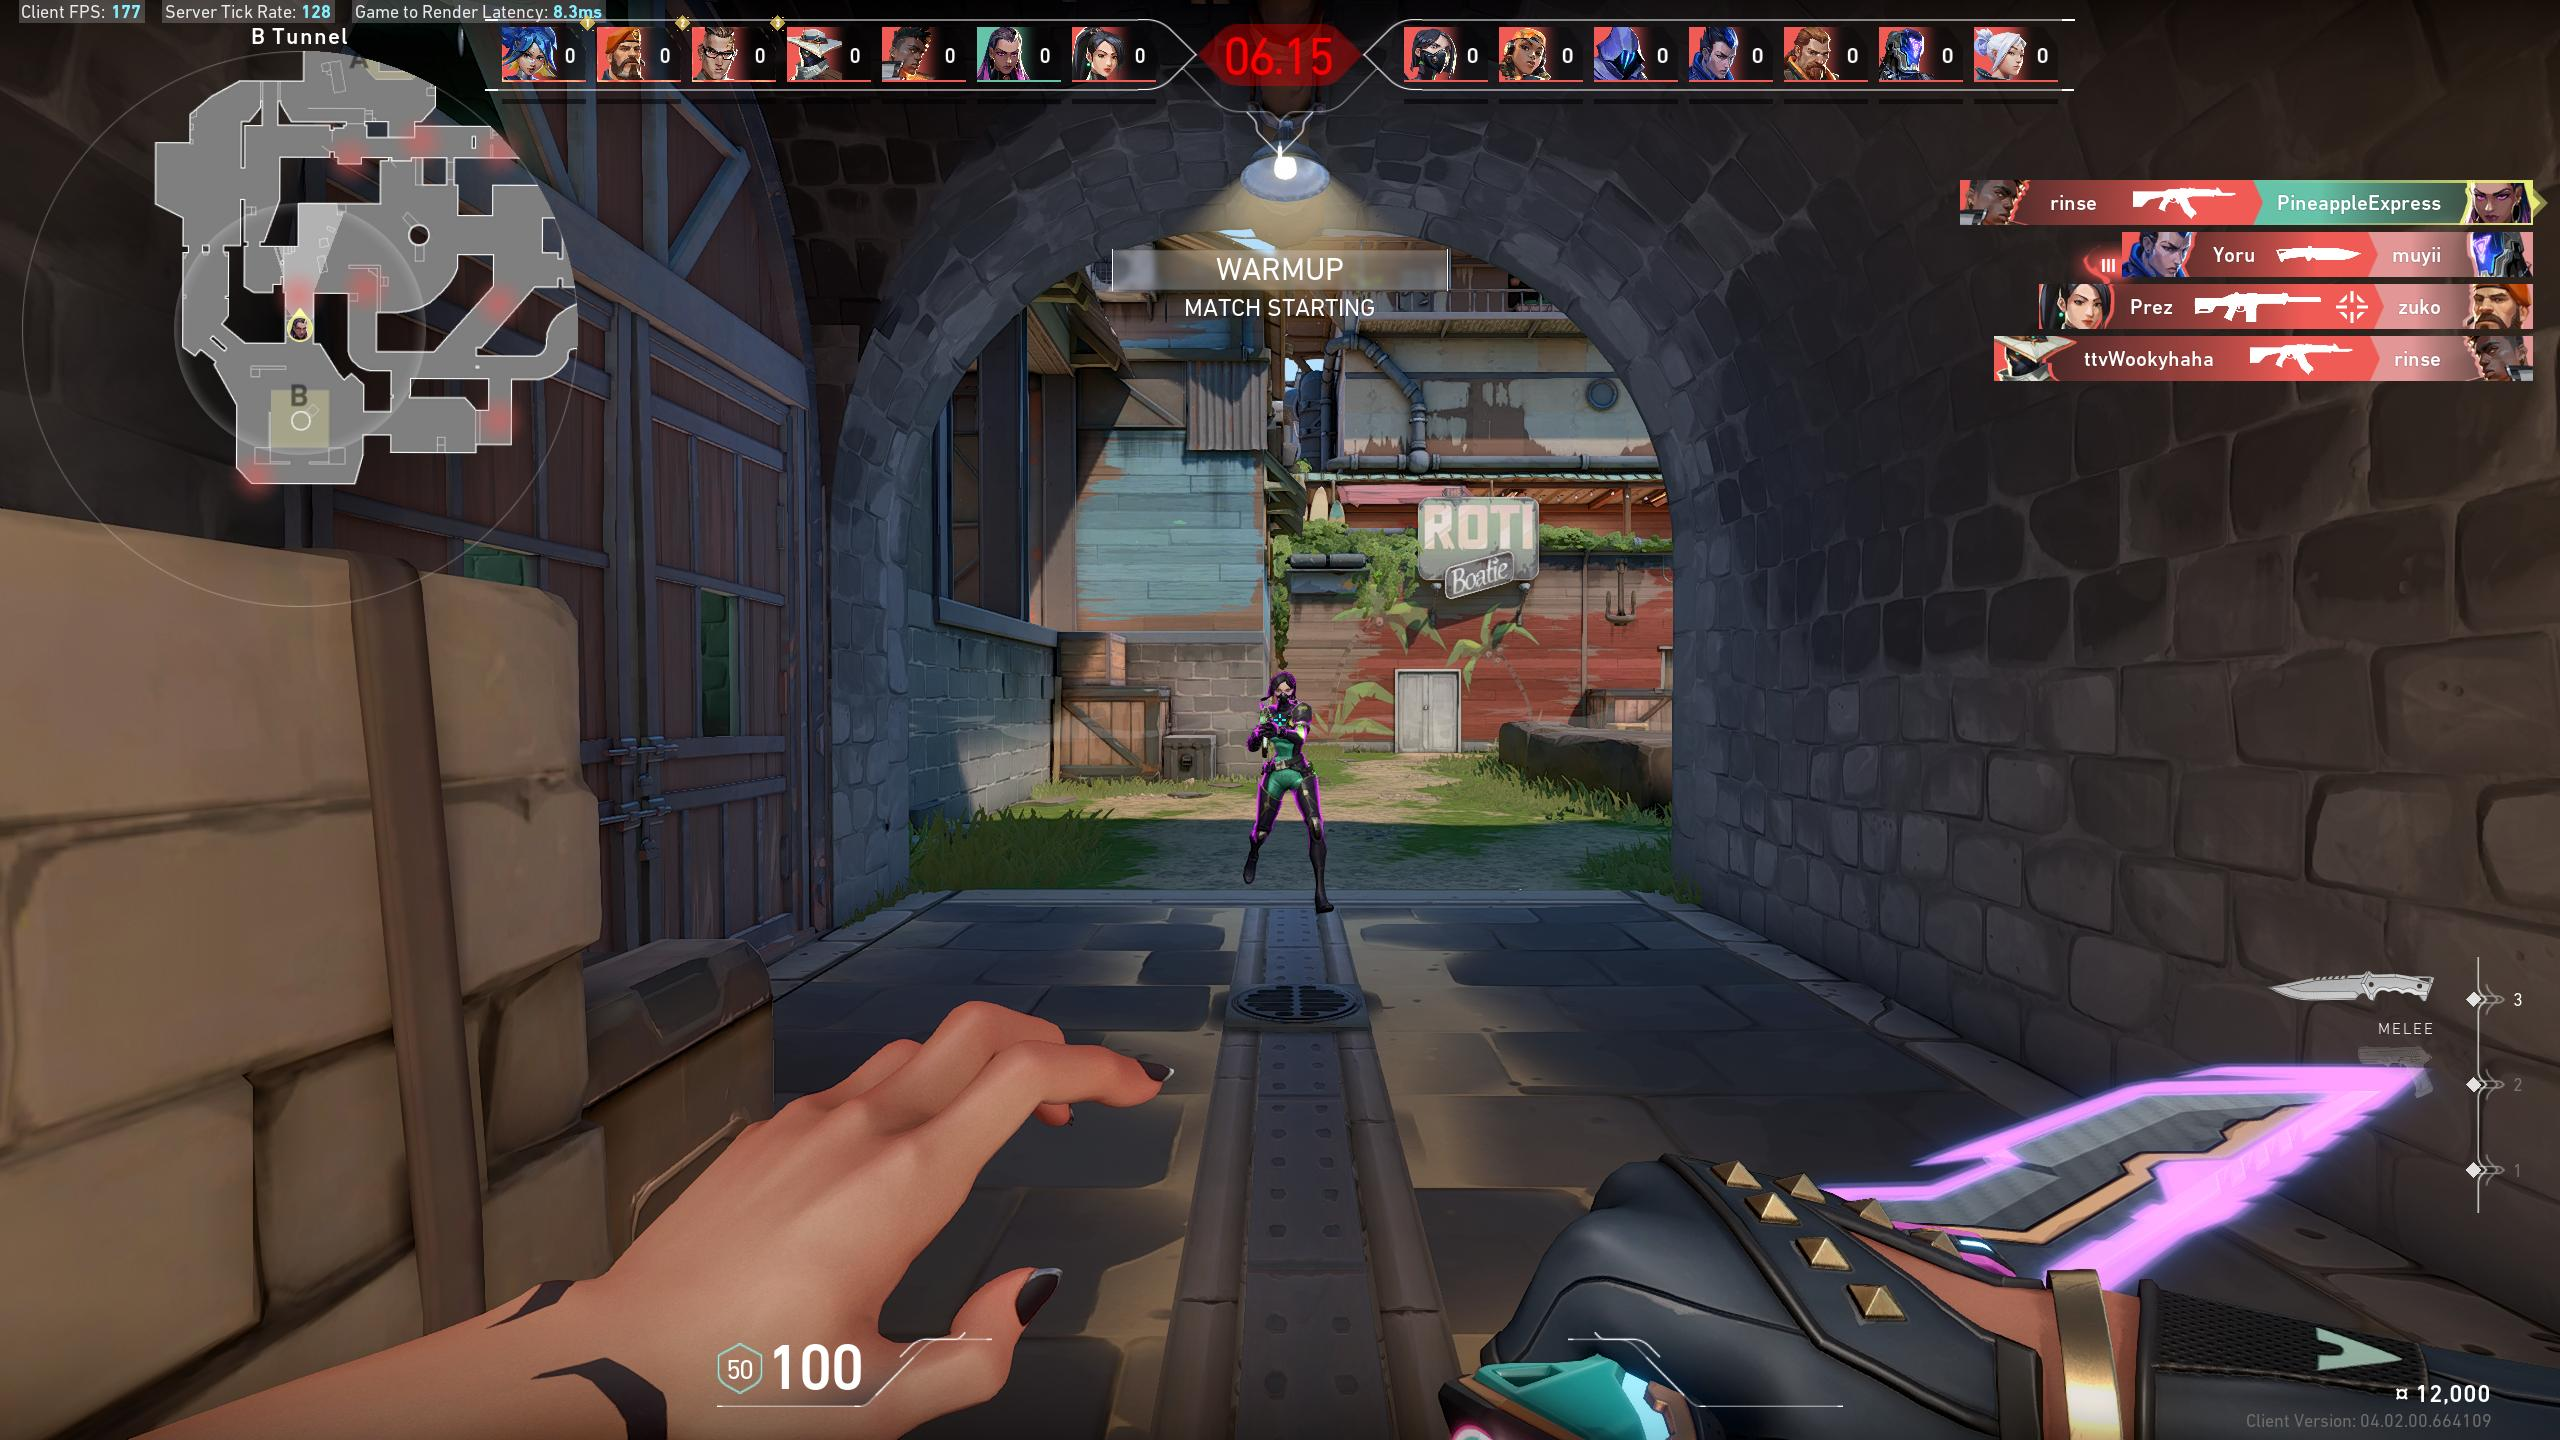enemyBody: (1271, 710, 1299, 754)
enemyHead: (1275, 680, 1291, 700)
